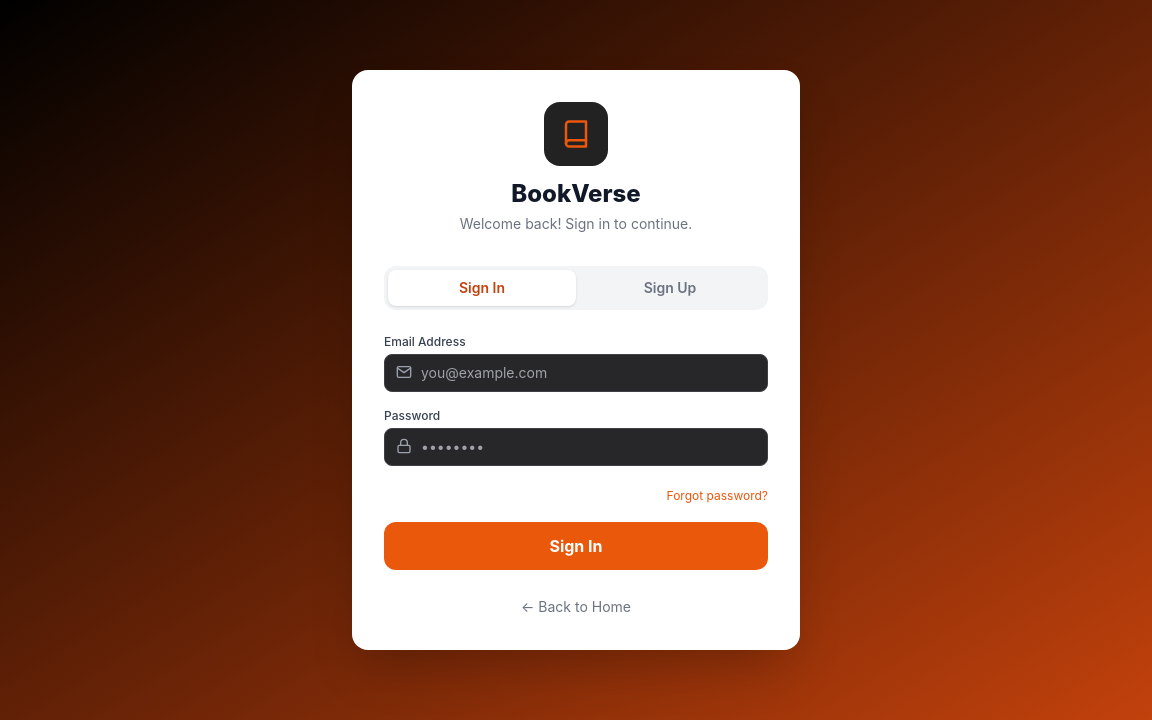
Scenario: LoginPage › switches to Sign Up tab and shows name field
Click the button "Sign Up": (670, 288) [576, 270, 764, 306]
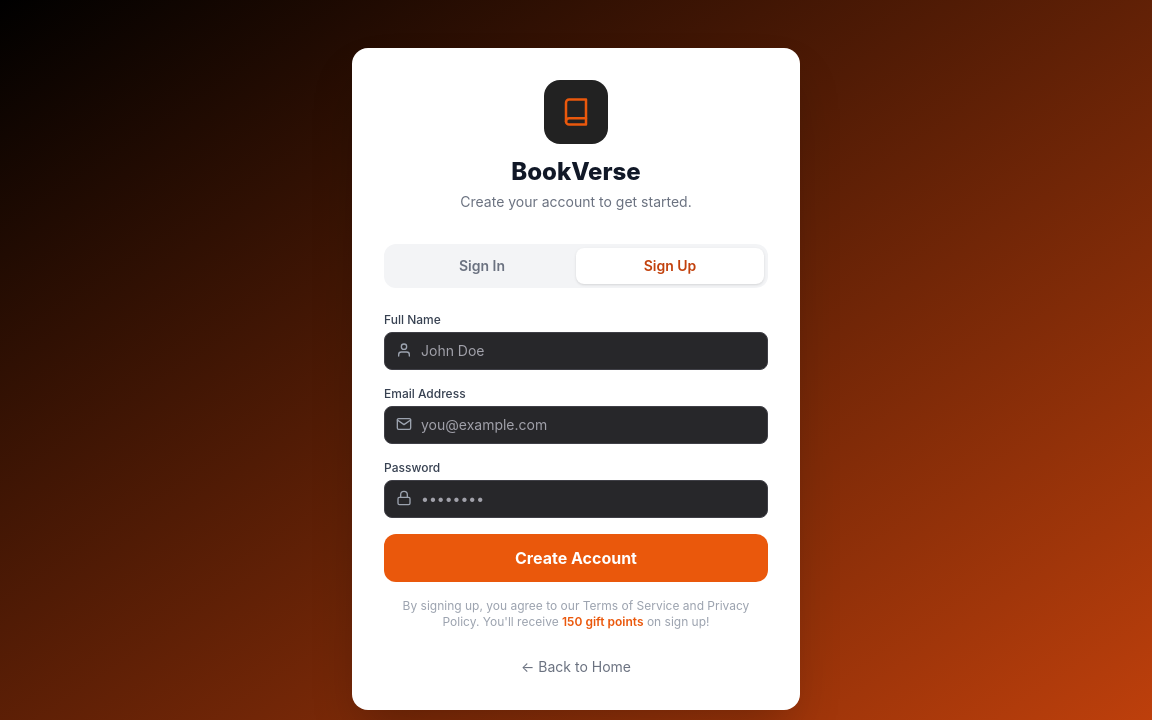
Now the field with placeholder "John Doe" is shown, box [384, 332, 768, 370]
